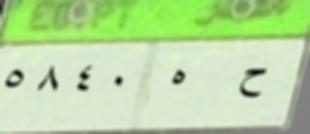0: (108, 70, 130, 95)
4: (73, 61, 98, 98)
5: (2, 64, 27, 93)
7aa: (234, 61, 270, 102)
8: (36, 64, 61, 95)
haa: (164, 64, 190, 92)
